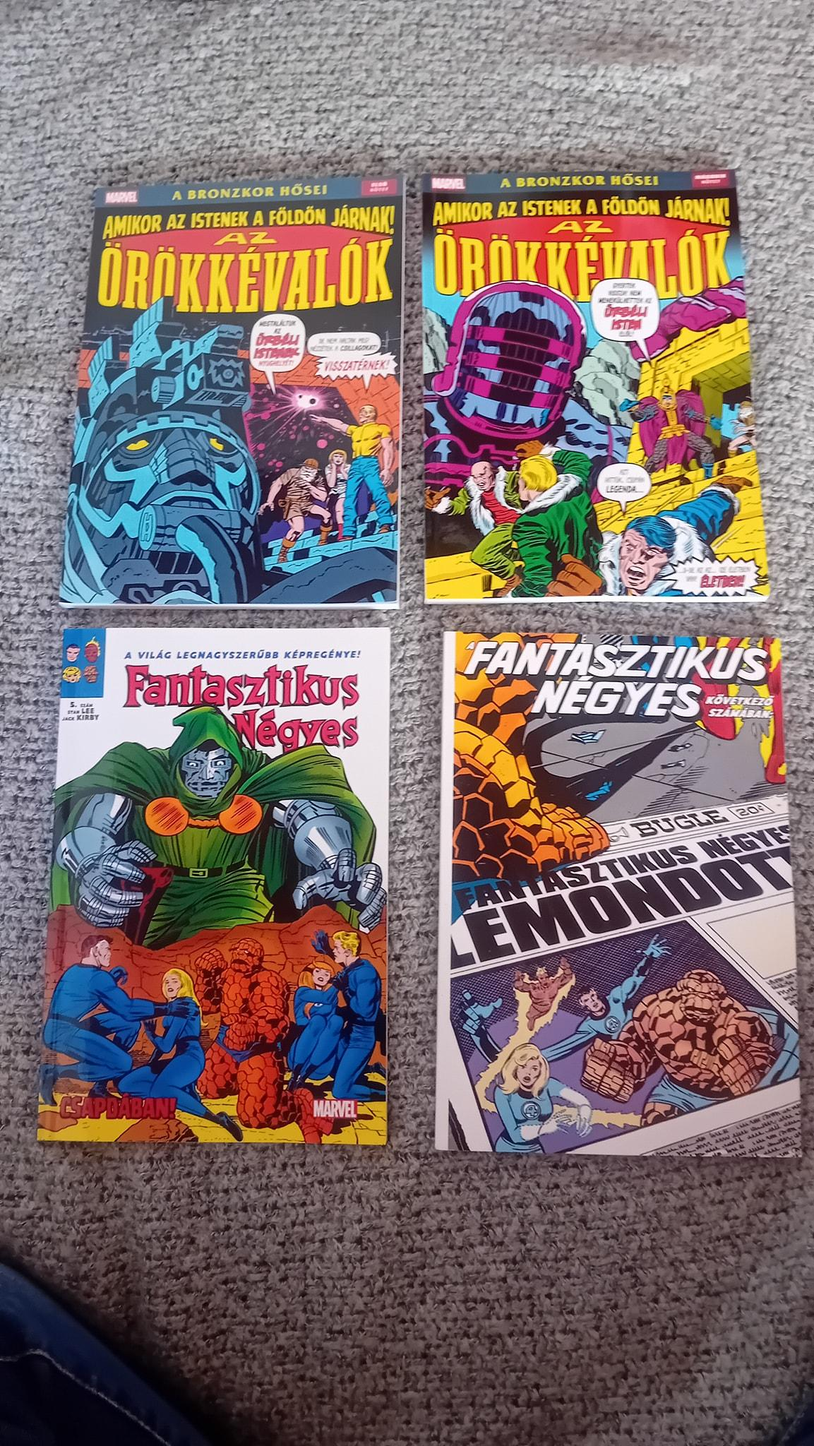comic: (437, 632, 802, 1155), (39, 625, 388, 1144), (422, 169, 767, 601), (61, 175, 402, 608)
